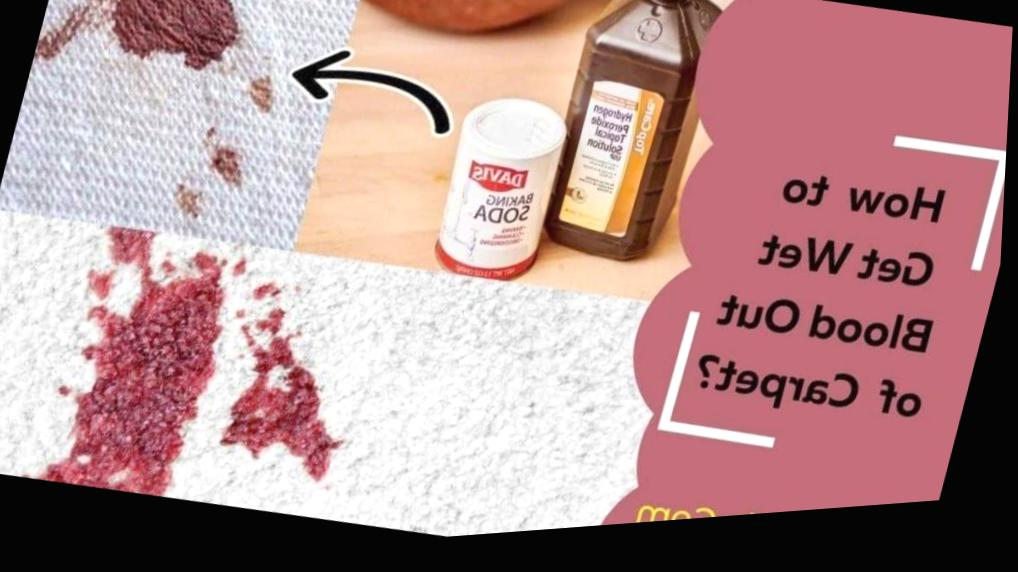Fire: (42, 226, 233, 500), (224, 338, 351, 485), (112, 0, 242, 73), (211, 152, 248, 195), (249, 77, 276, 116)
